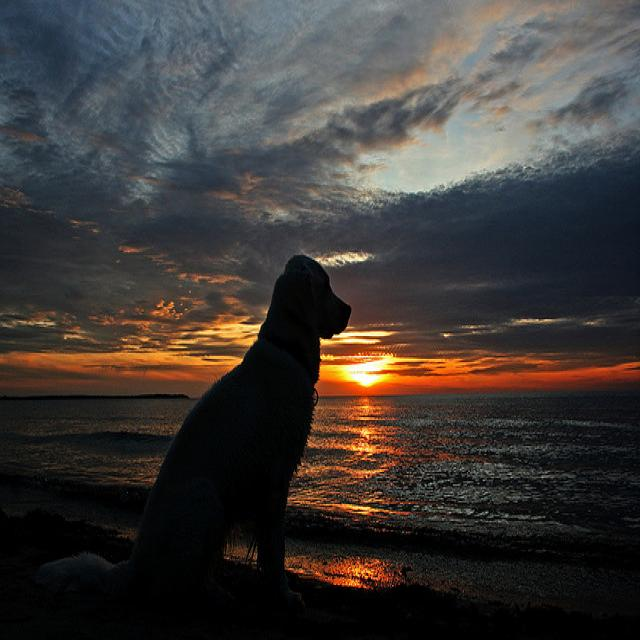dog: (97, 242, 375, 640)
